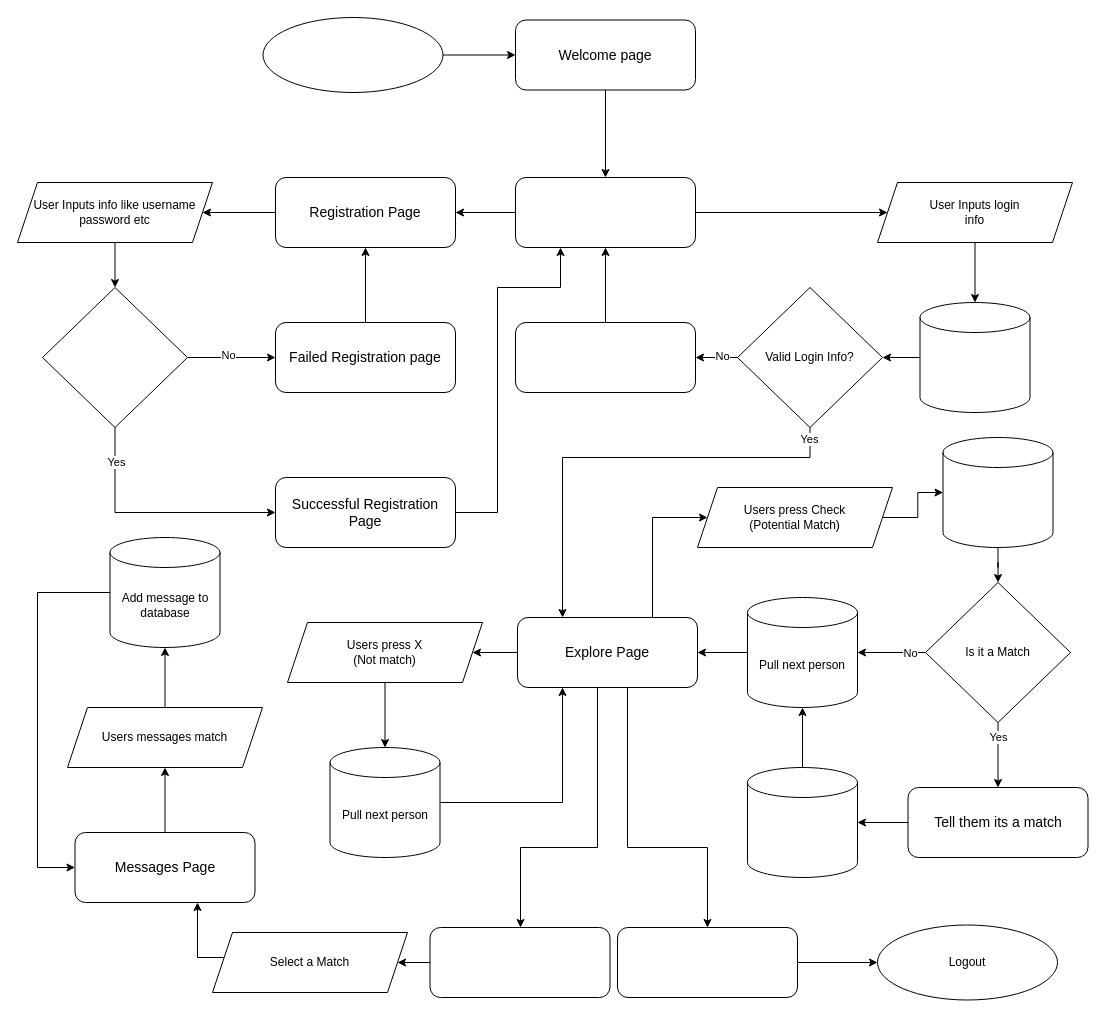
Image size: 1106x1018. Some labels were removed from this diagram. The box of each missing label's shape, as (x1, y1, x2, y2) in pixels:
Add match to database: (746, 766, 858, 878)
Check Database For login info: (919, 302, 1030, 412)
Failed Login Page: (514, 322, 696, 392)
Login Page: (514, 176, 696, 248)
Matches Page: (429, 926, 610, 998)
Meet requirements such as being 18+: (42, 286, 188, 428)
Profile Page: (616, 926, 798, 998)
Pull Match info: (942, 436, 1053, 548)
Start: (262, 16, 443, 92)
